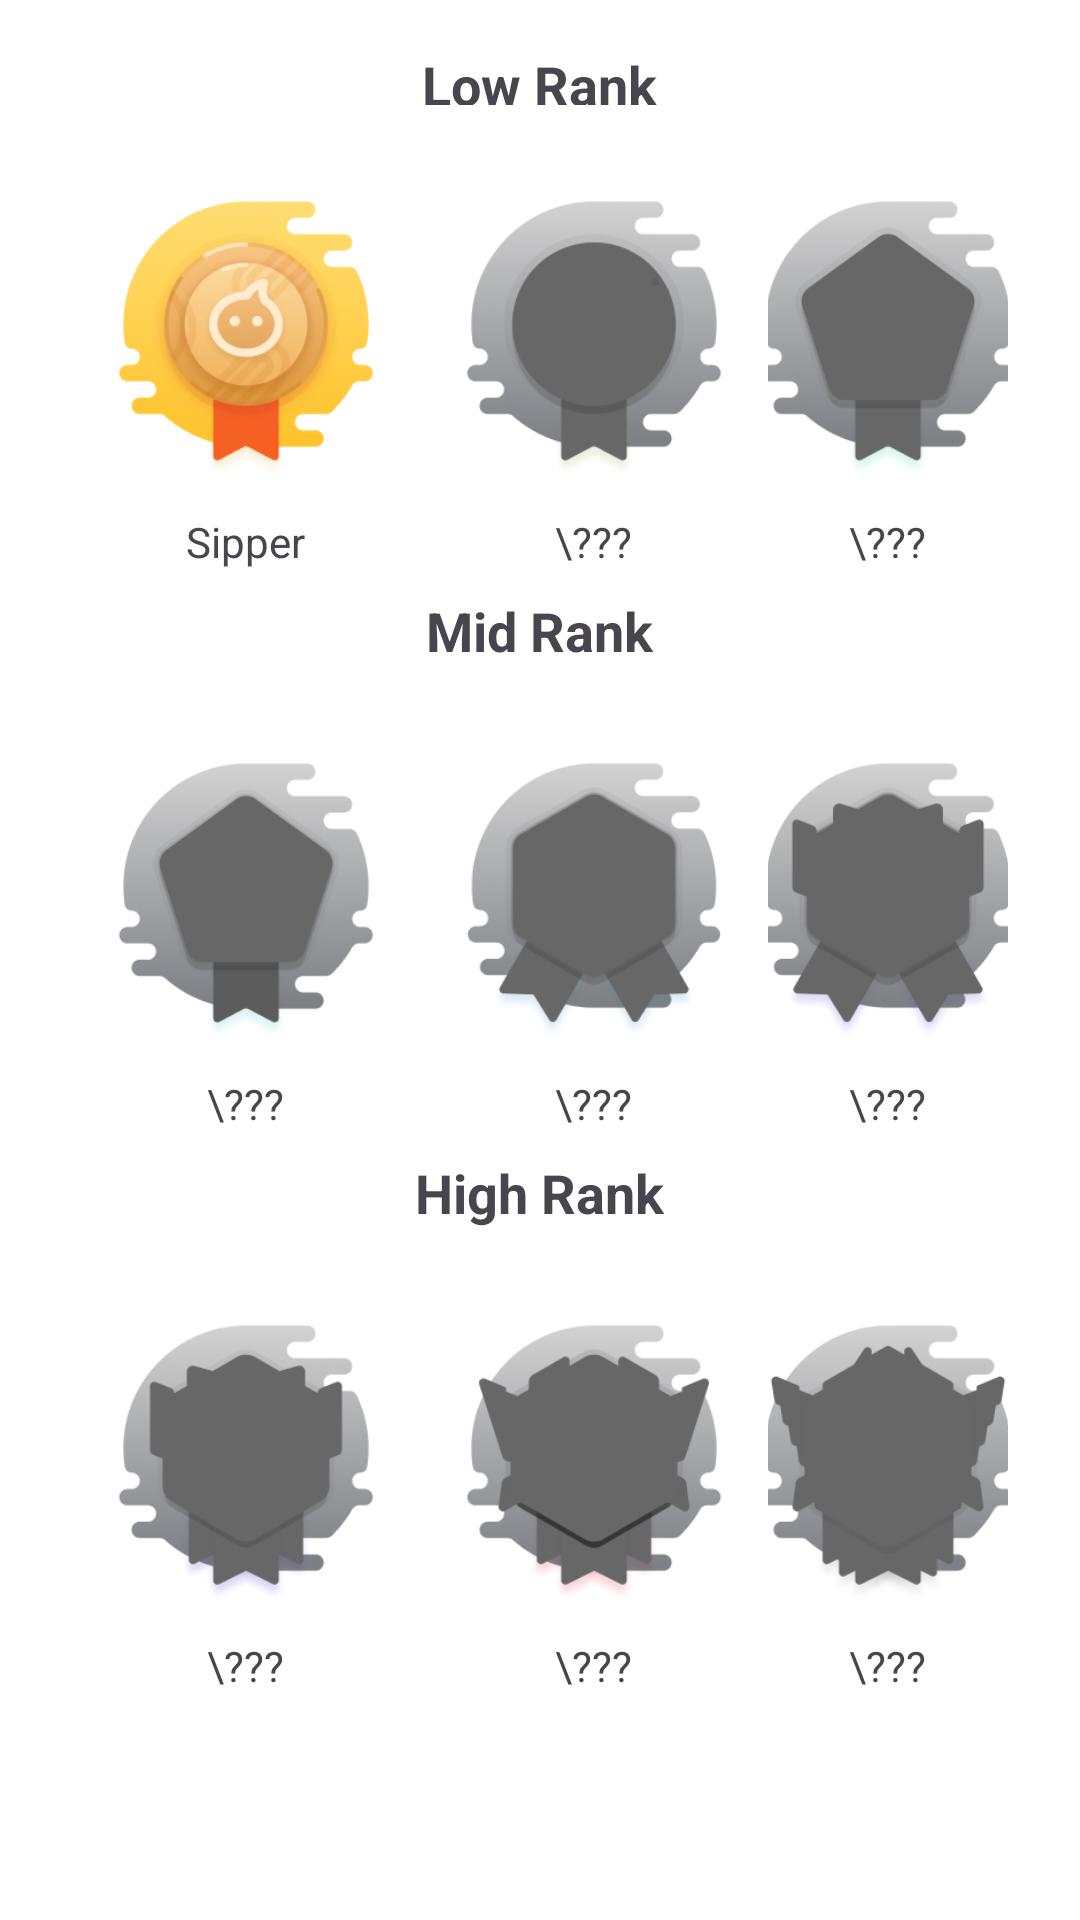

Icon bounding boxes for this 1080px x 1920px phone screenshot, format (x1, y1, x2, y2):
Aqua Achiever Badge: (119, 201, 374, 466)
